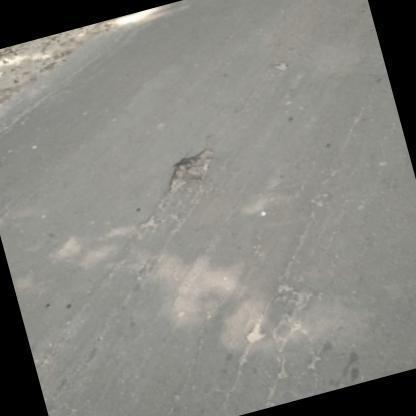pothole: (165, 148, 214, 198)
